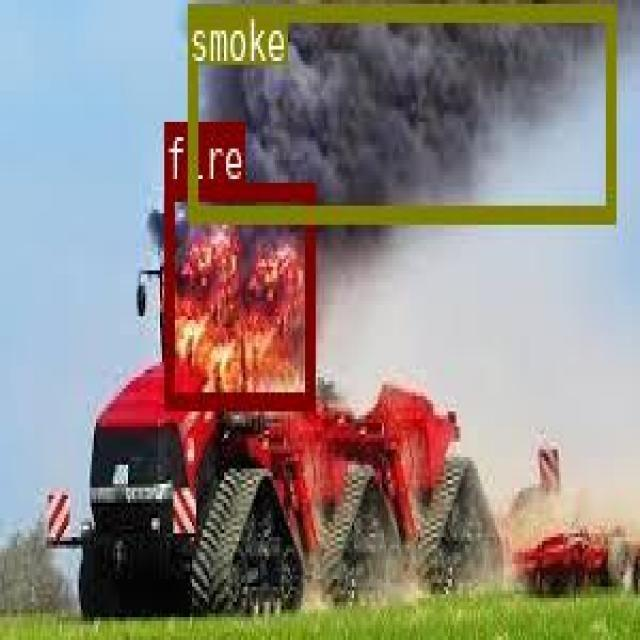fire: (163, 182, 313, 405)
smoke: (187, 4, 614, 219)
